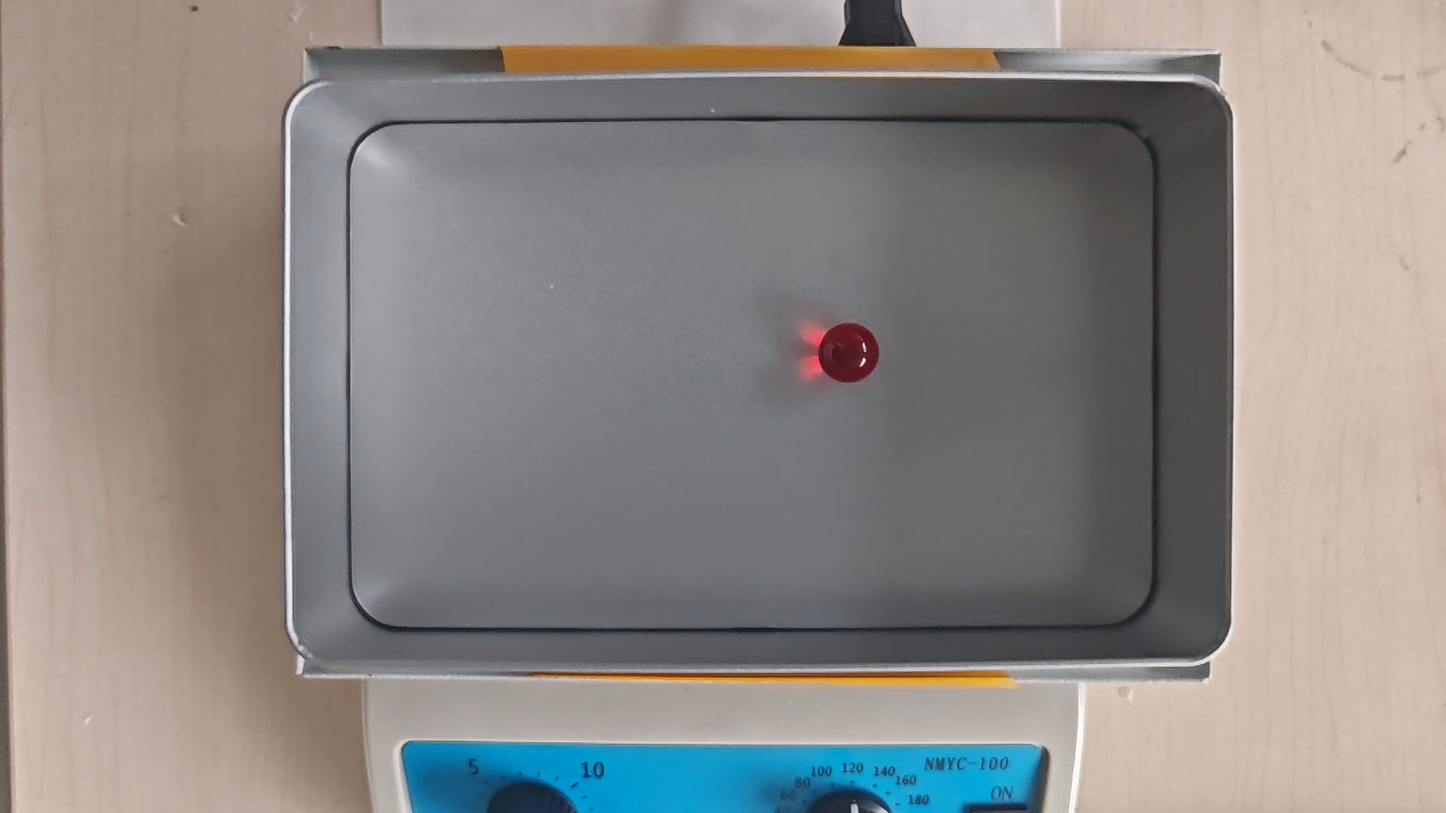ball: (819, 321, 881, 385)
container: (348, 120, 1155, 629)
